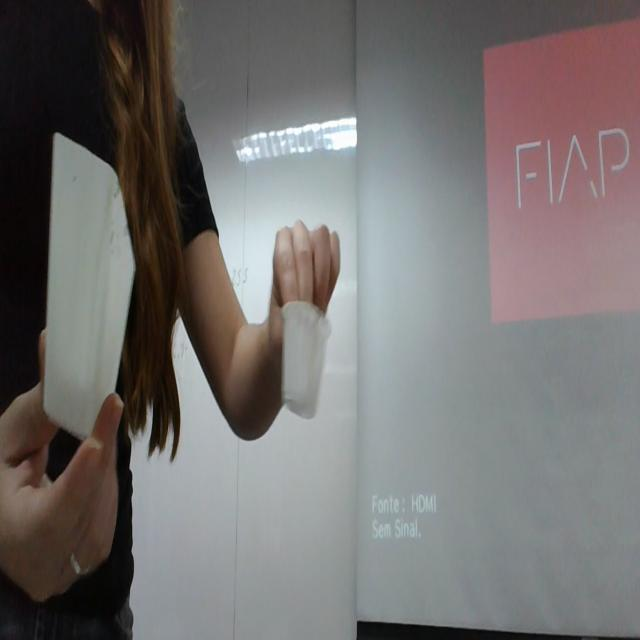erva_daninha: (44, 134, 136, 444)
planta: (280, 298, 332, 421)
